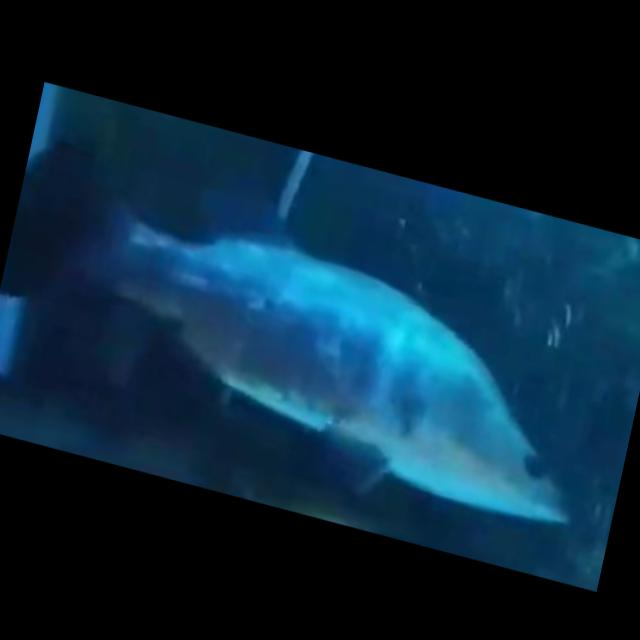Seabass: (0, 125, 625, 546)
